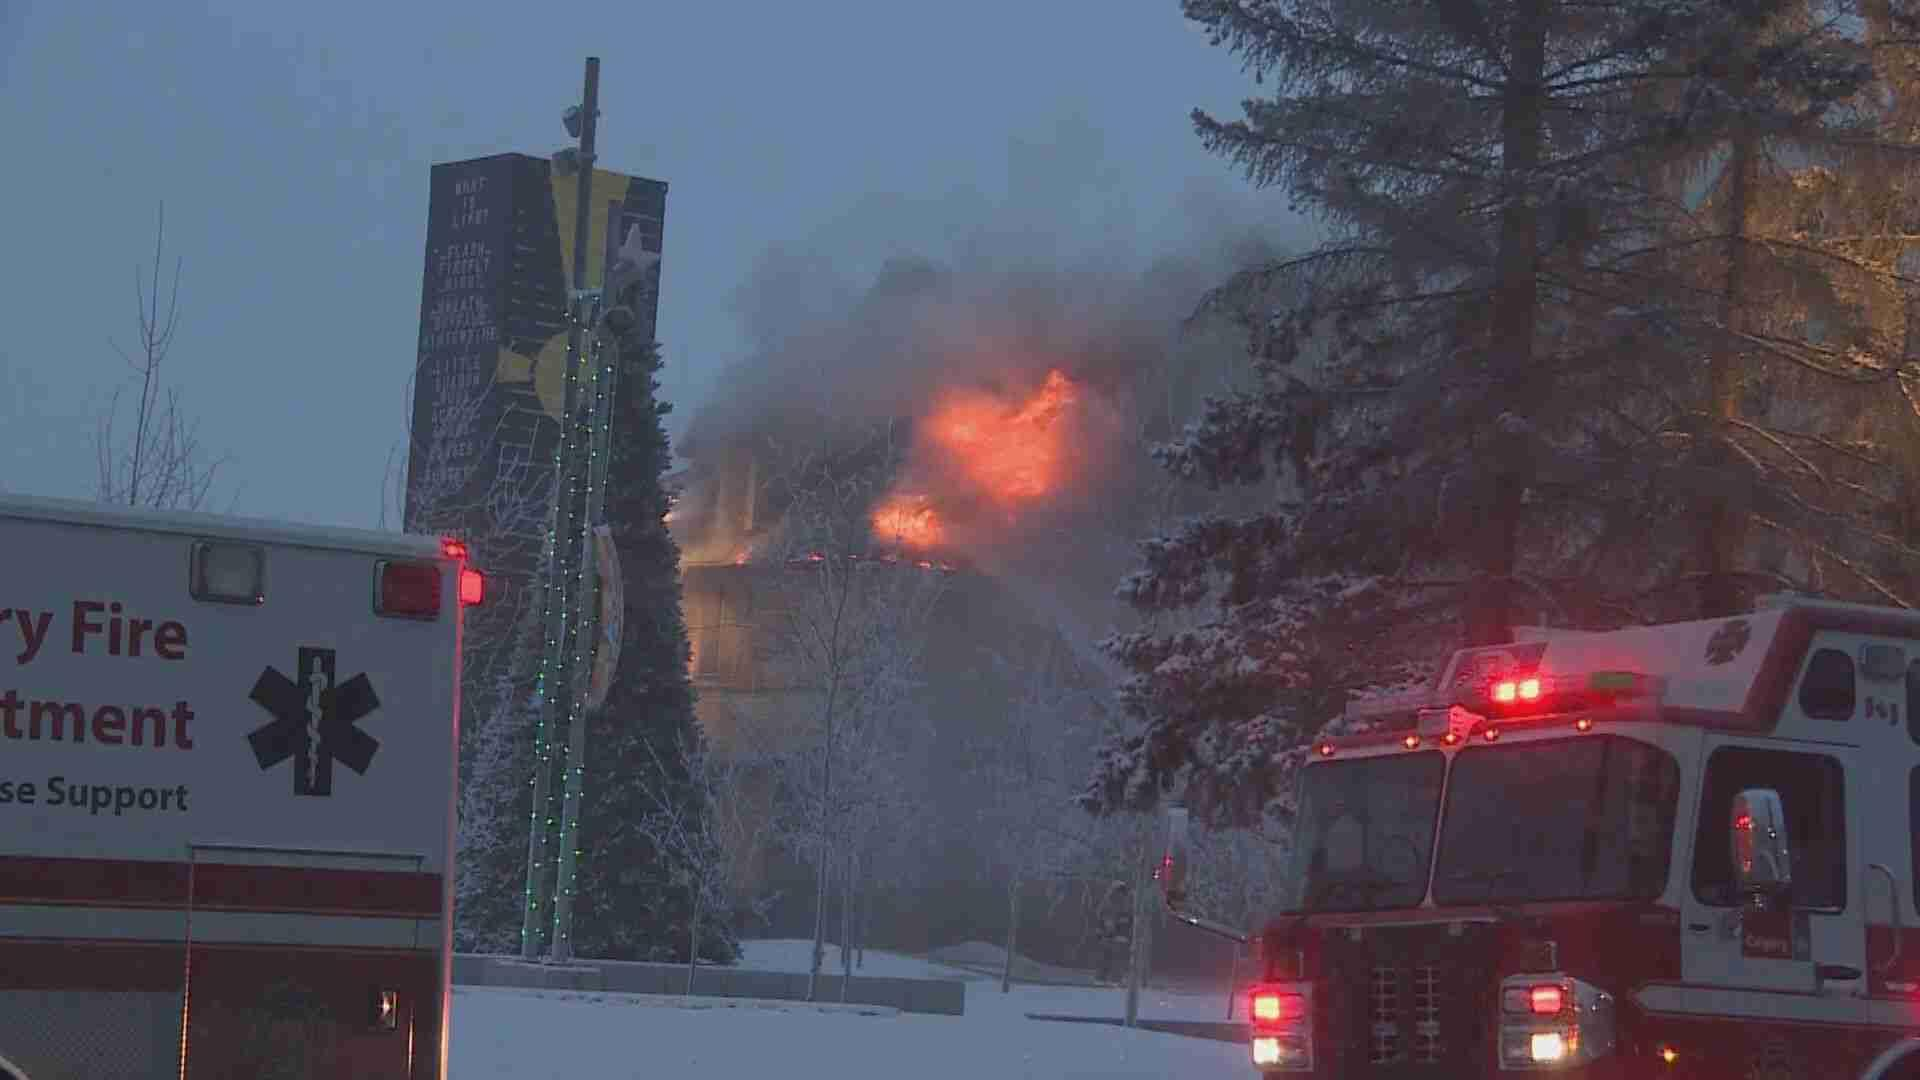Fire: (839, 342, 1110, 589)
